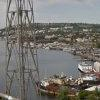Boat: (73, 53, 93, 77)
